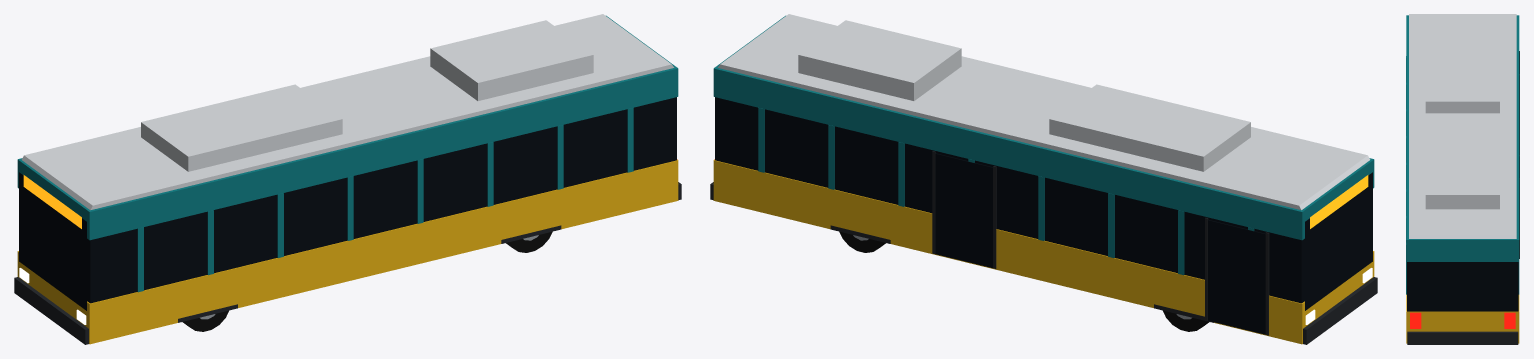
The model's file is bus40-teal.glb.
3 renders of one model, left to right at view 1: azimuth 30°, elevation 25°; view 2: azimuth 150°, elevation 25°; view 3: azimuth 270°, elevation 25°, orthographic. The views are drawn at different scales.
Visible parts, largest first — view 1: bus40; view 2: bus40; view 3: bus40.
Boxes of the visible parts, x1=… form: bus40: x1=14, y1=14, x2=681, y2=344; bus40: x1=710, y1=14, x2=1377, y2=344; bus40: x1=1406, y1=14, x2=1519, y2=344.
Bounding box in the file's own units: 12.36 × 3.37 × 2.61.
